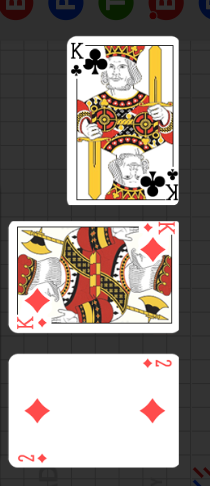2D: (17, 452, 49, 464)
KC: (69, 40, 88, 81)
KD: (15, 316, 49, 331)
